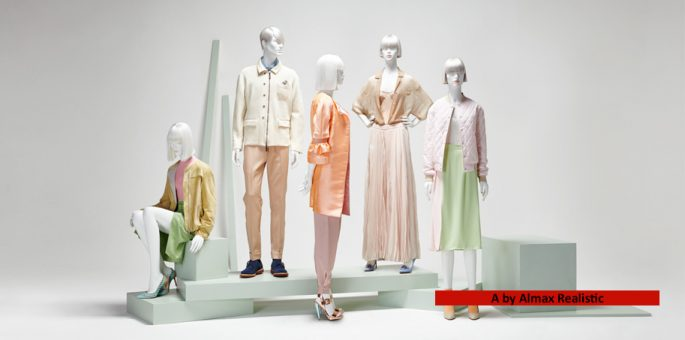person-like: (349, 30, 435, 279), (229, 22, 305, 281), (420, 54, 491, 321), (126, 118, 219, 302), (303, 51, 357, 324)
